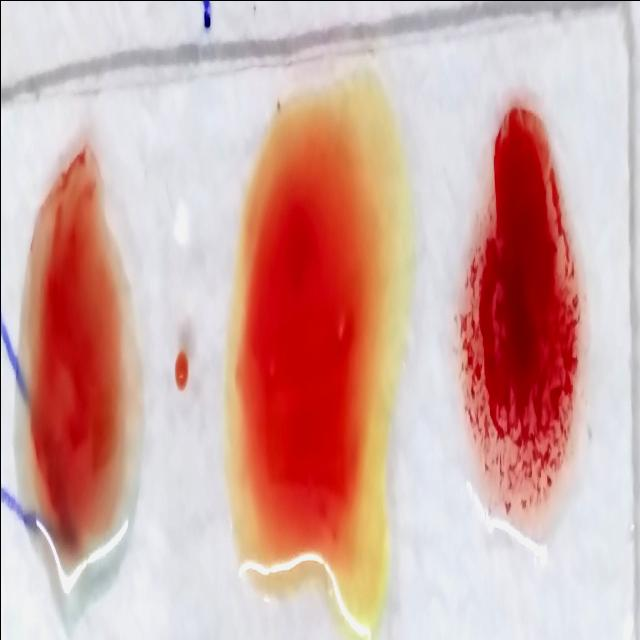D: (460, 116, 584, 506)
